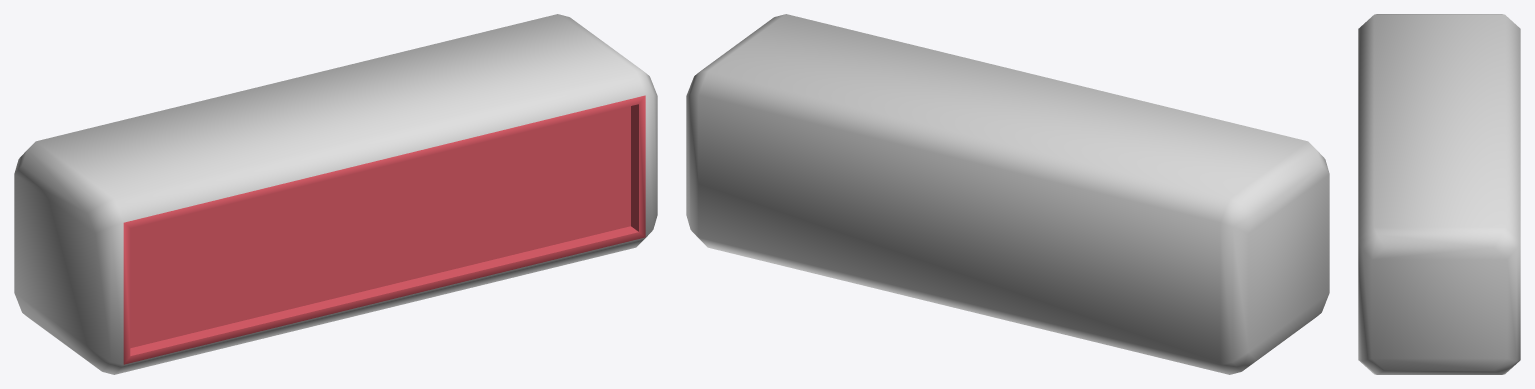
The model's file is Response_Cube.fbx.
The picture shows the model from 3 angles, left to right: view 1: azimuth 30°, elevation 25°; view 2: azimuth 150°, elevation 25°; view 3: azimuth 270°, elevation 25°; orthographic projection. The views are drawn at different scales.
Visible parts, largest first — view 1: RespondeCube; view 2: RespondeCube; view 3: RespondeCube.
Boxes of the visible parts, left/top/right/bottom form: RespondeCube: left=14, top=14, right=657, bottom=374; RespondeCube: left=686, top=14, right=1329, bottom=374; RespondeCube: left=1358, top=14, right=1520, bottom=374.
Bounding box in the file's own units: 2 × 0.599 × 0.5997.
